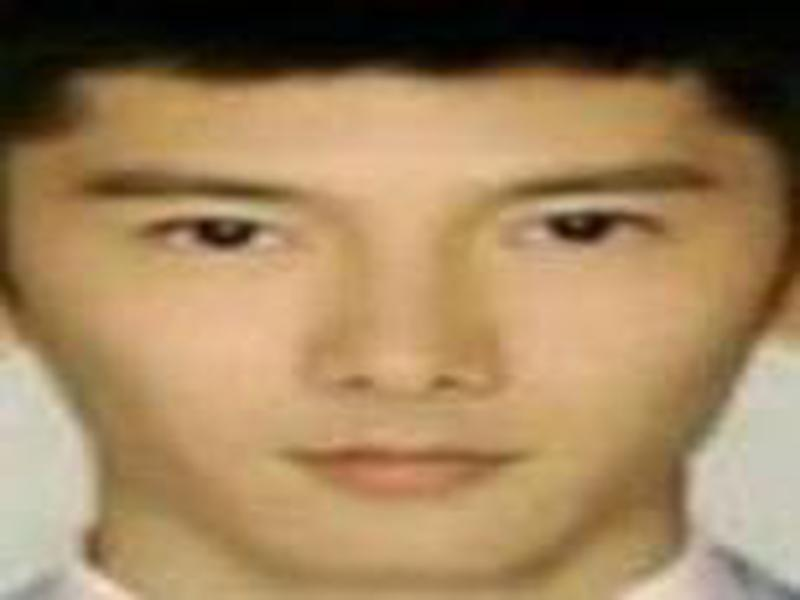without_mask: (15, 74, 785, 578)
